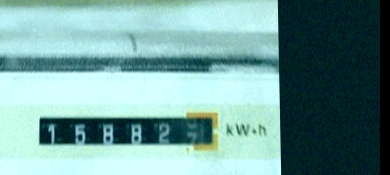1: (47, 120, 62, 143)
2: (158, 120, 175, 144)
5: (75, 120, 90, 145)
7: (189, 127, 201, 144)
8: (131, 121, 146, 145), (103, 121, 117, 145)
screen: (32, 103, 230, 162)
